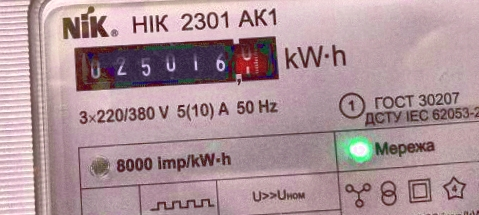0: (163, 50, 178, 73), (88, 57, 102, 80), (239, 41, 252, 61)
1: (188, 47, 200, 73), (242, 64, 251, 75)
2: (113, 53, 128, 77)
5: (138, 55, 151, 76)
6: (212, 49, 227, 75)
screen: (63, 26, 288, 98)
